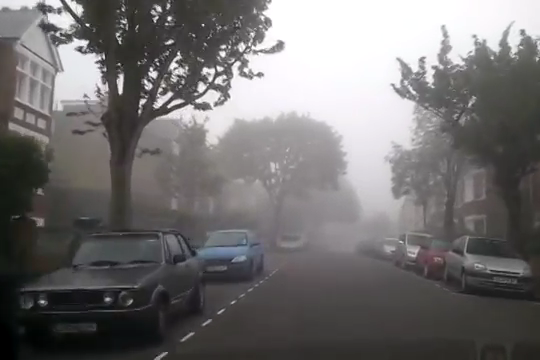car: (16, 229, 207, 347), (445, 232, 534, 300), (194, 228, 265, 279), (413, 232, 463, 280), (393, 228, 438, 272), (377, 235, 405, 261), (277, 230, 306, 252)
